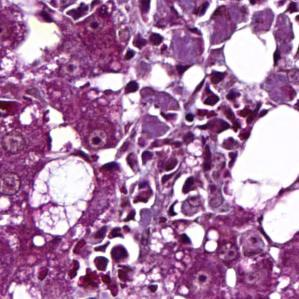ballooning: (27, 153, 99, 240), (221, 25, 278, 89)
